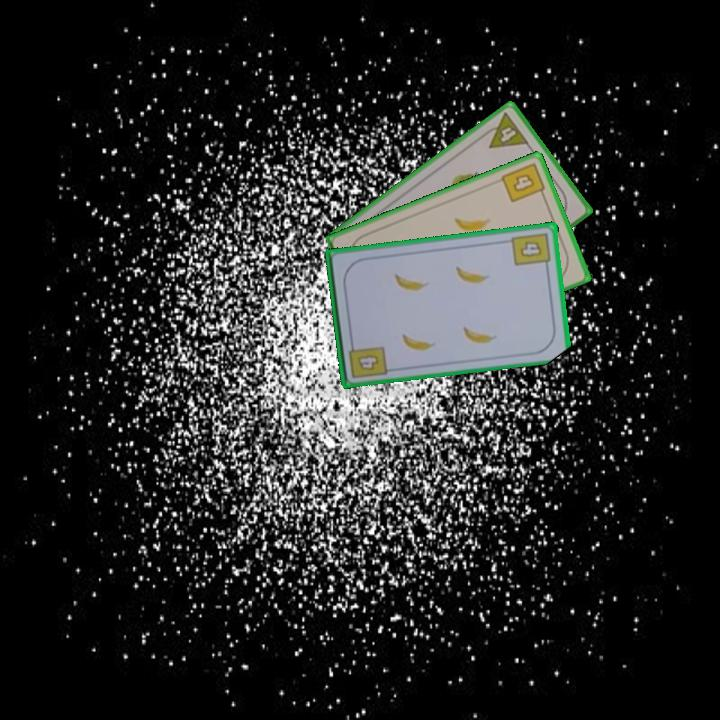4b: (498, 159, 549, 205), (509, 229, 554, 272), (354, 351, 382, 373)
4p: (478, 109, 532, 151)
